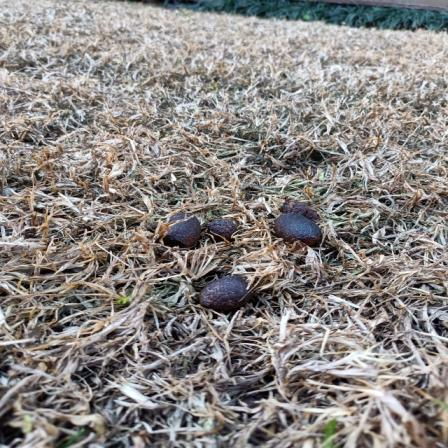dog-poop: (158, 198, 239, 245), (272, 196, 322, 250), (191, 272, 255, 310)
